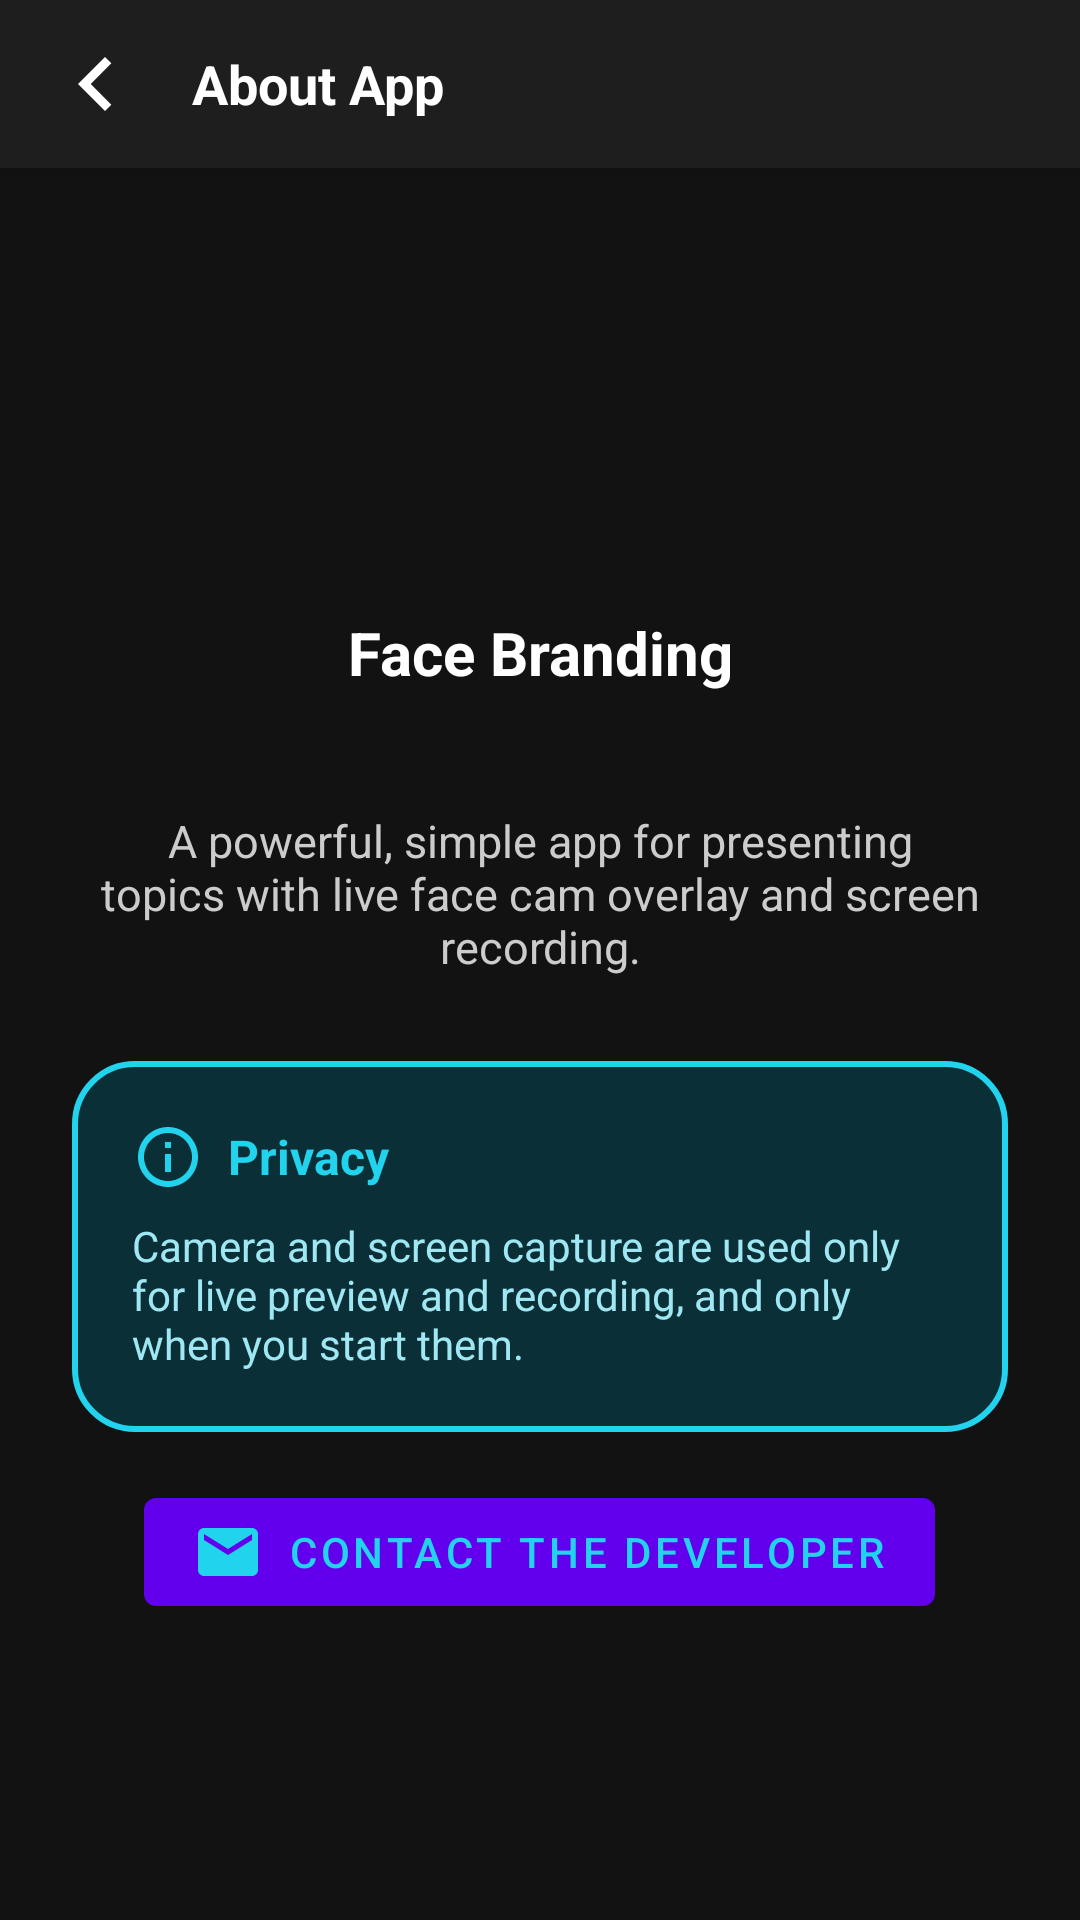

Screen size 1080w x 1920h. Icon name, then its box in pixels as (x1, y1, x2, y2):
Back: (78, 57, 112, 111)
